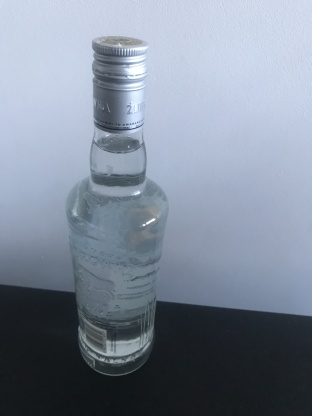nakretka: (90, 34, 149, 137)
